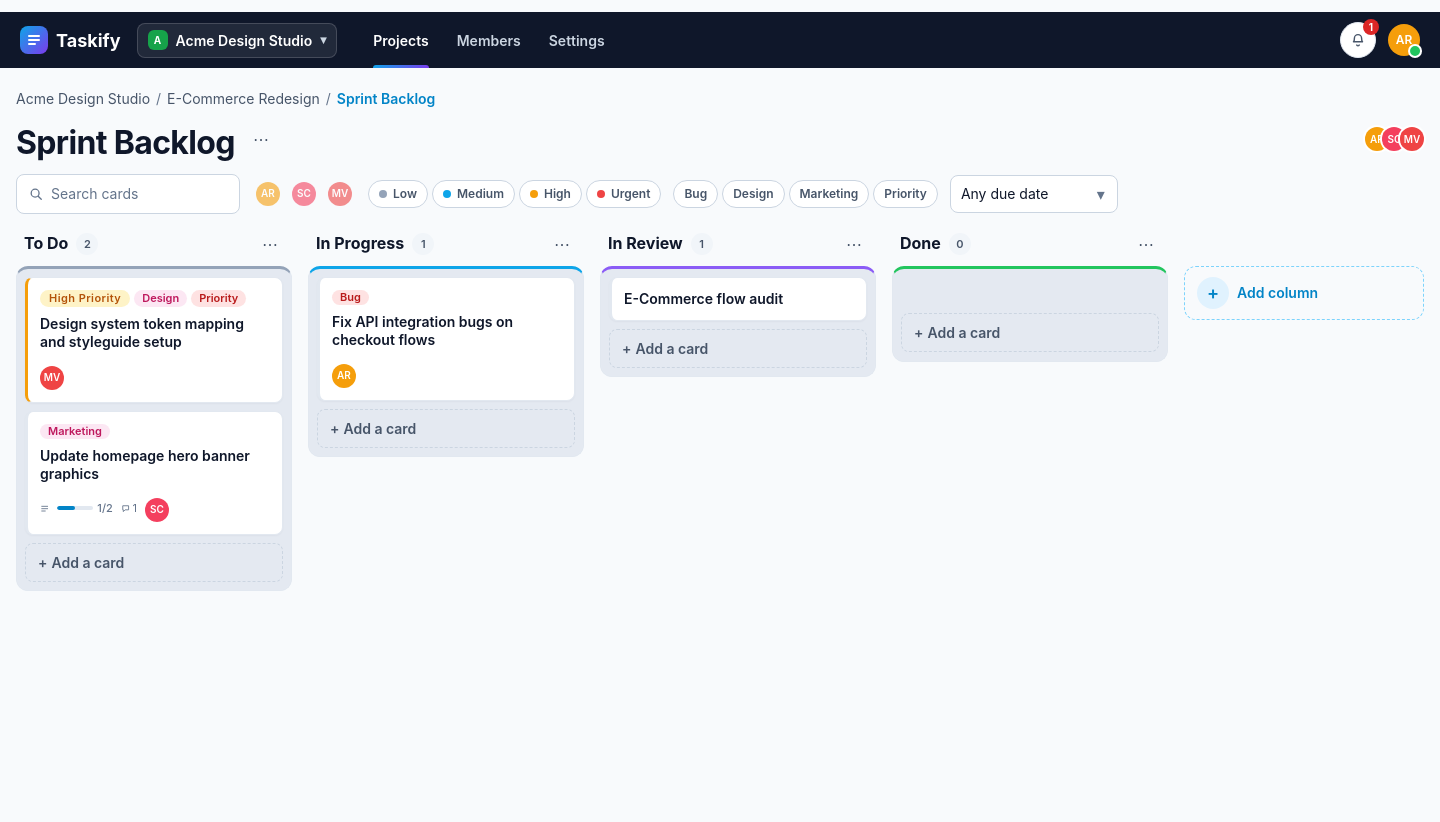
Test case: BoardPage › adds a card with the title the user typed
The image size is (1440, 822).
Click the button "+ Add a card" below "In Review": coordinates (738, 348) [609,329,867,368]
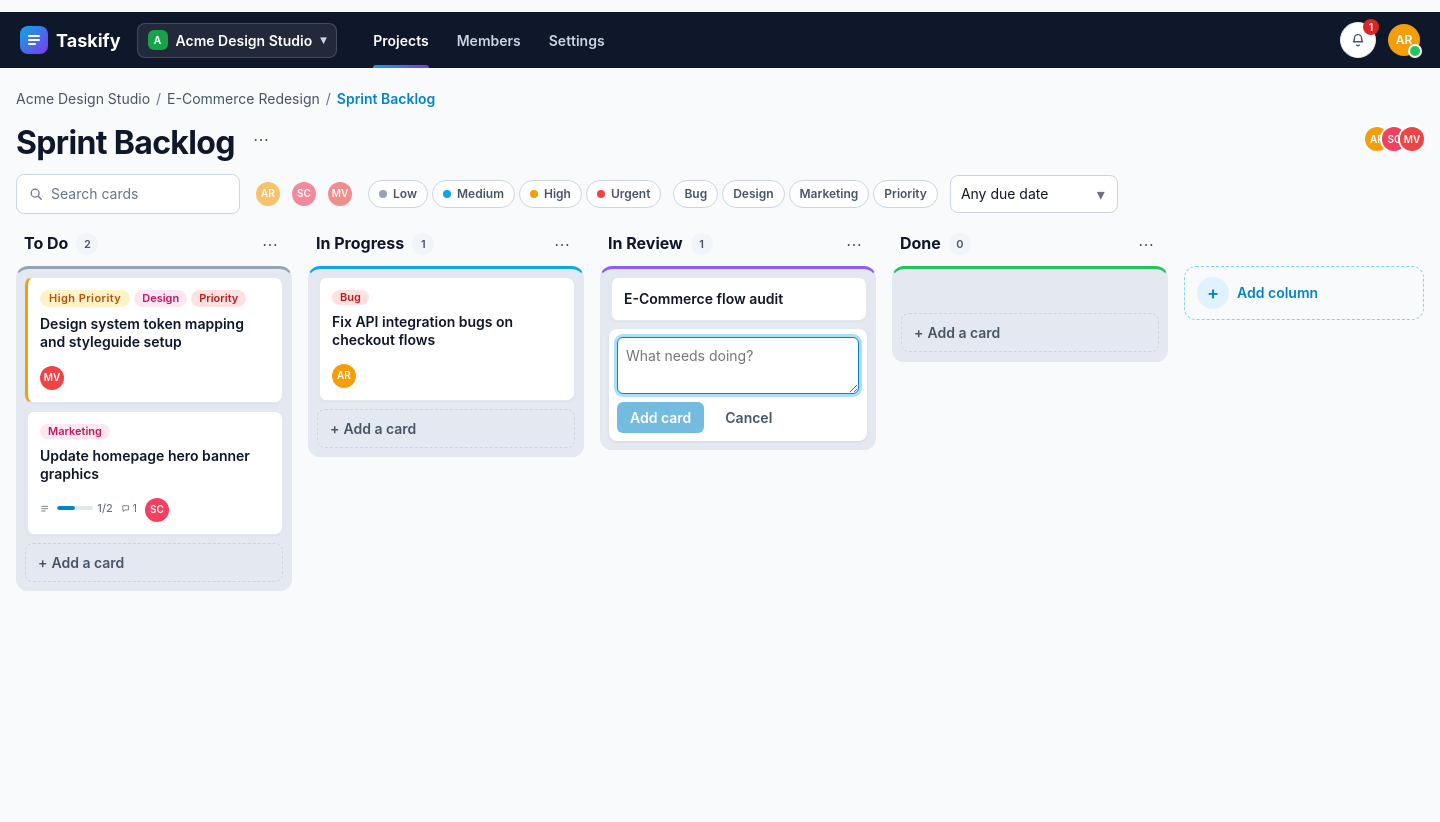
In the text box named "new card in": coordinates (738, 366) [617,337,859,394], type "Check the staging deploy"
Then press Enter
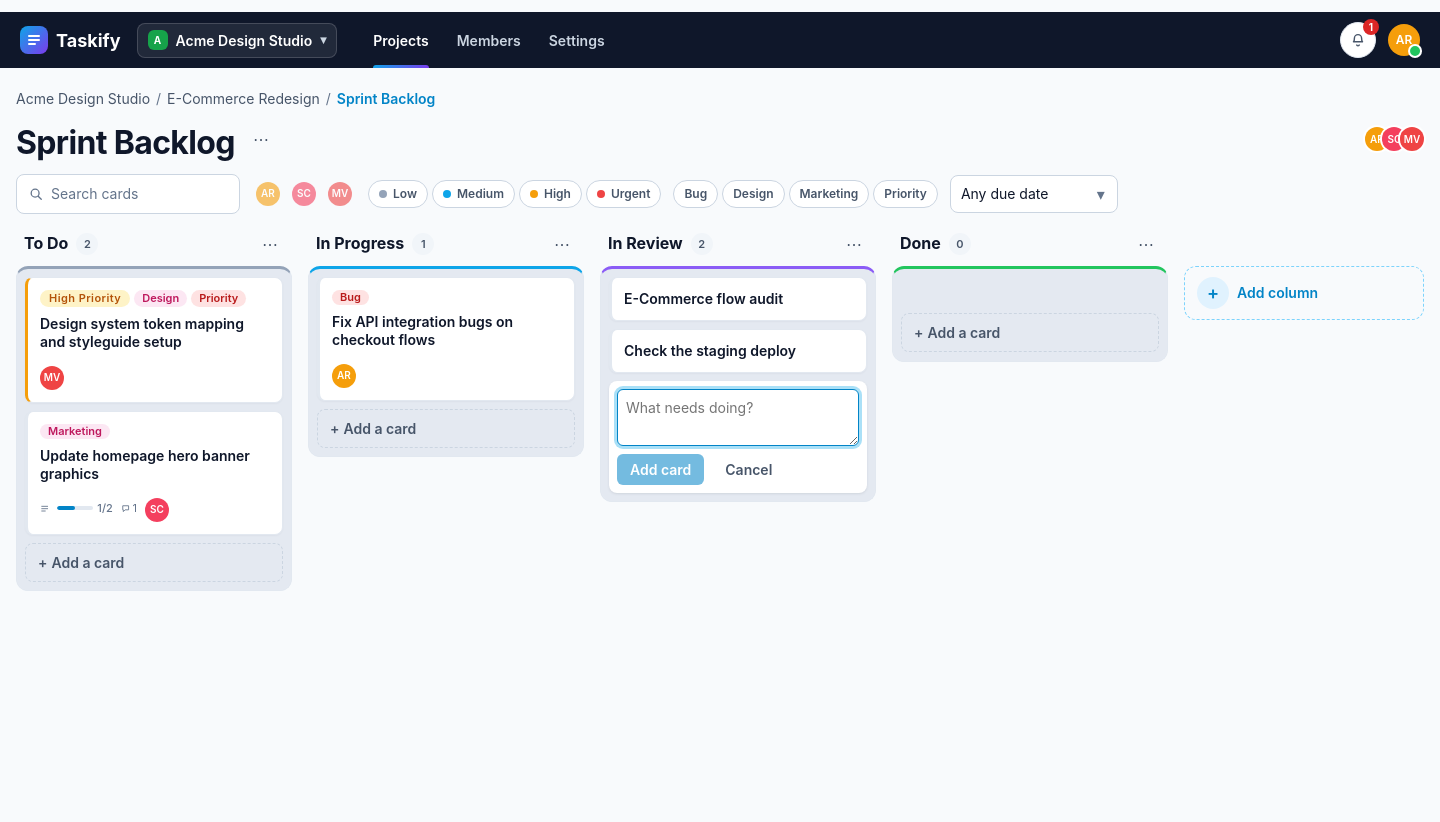
Check: the heading "Check the staging deploy" is shown, box [624,342,796,360]
